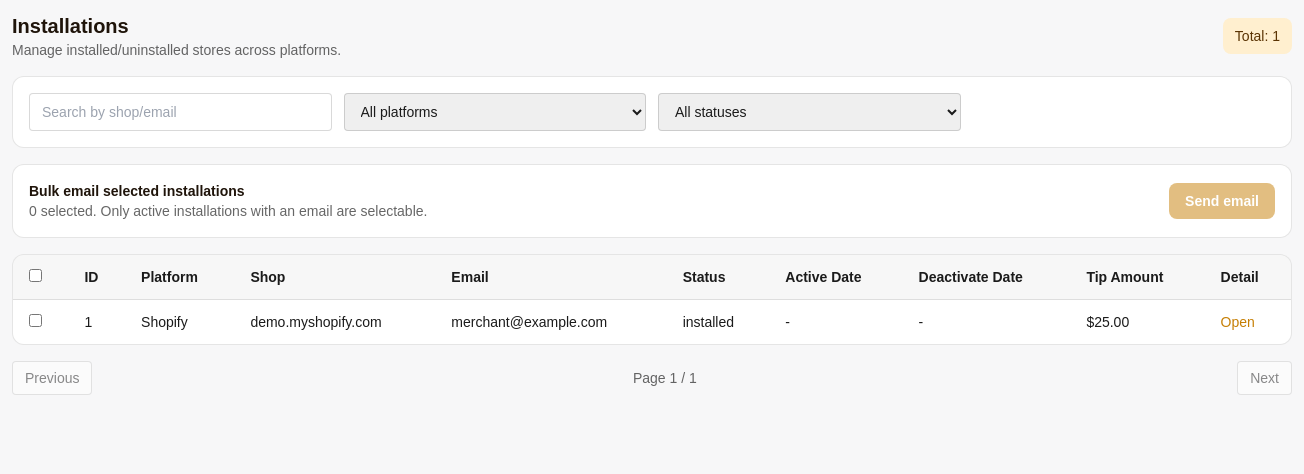
Test case: InstallationsPage › sends bulk email for selected rows
Check: the text "demo.myshopify.com" is shown, box [234,300,435,344]
Click the checkbox named "Select demo.myshopify.com" at (36, 320), box [29,314,42,327]
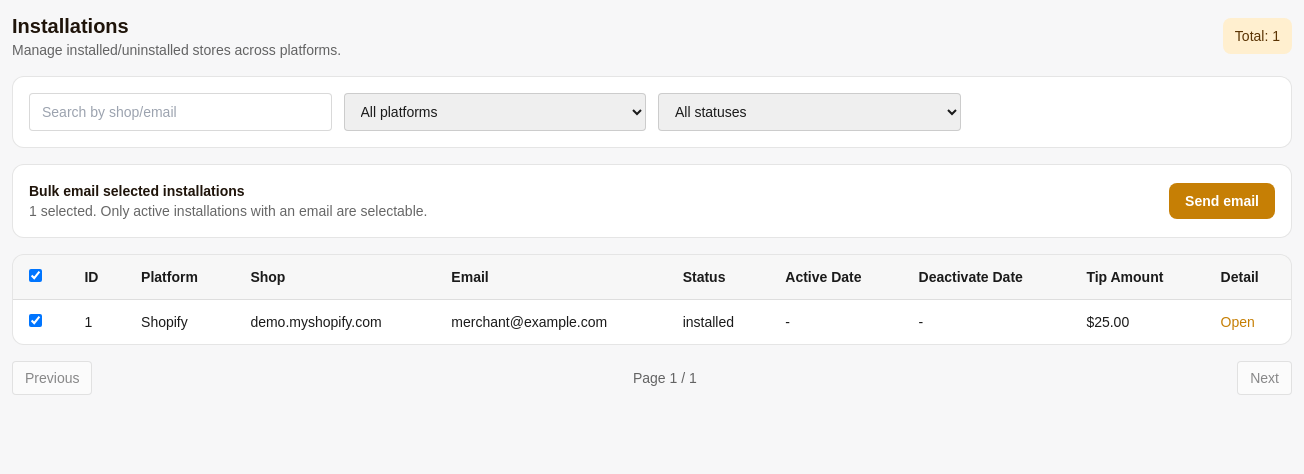
Click the button "Send email" at (1222, 201), box [1169,183,1275,219]
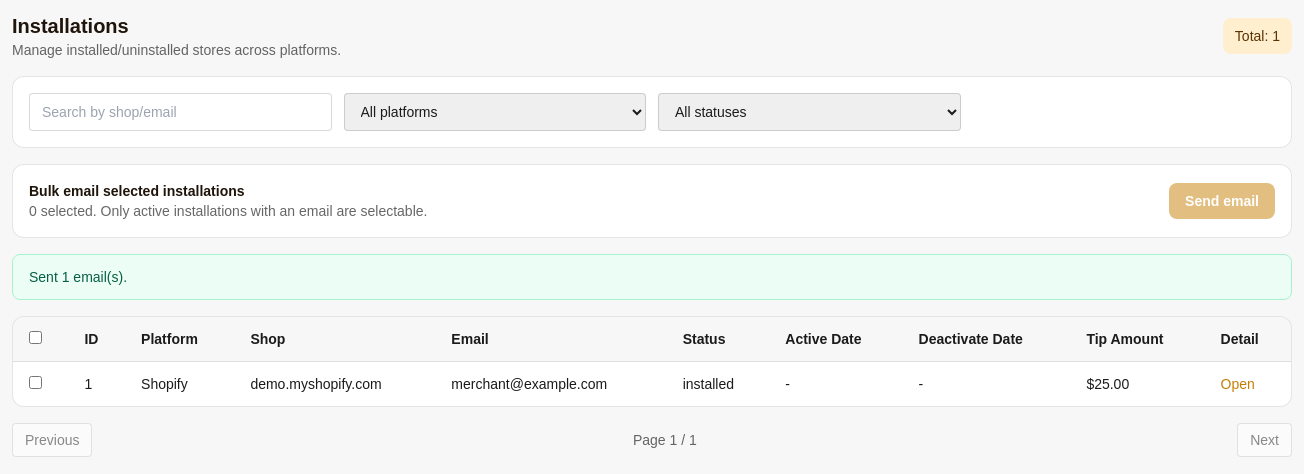
Check: the text "Sent 1 email(s)." is shown, box [12,254,1292,300]
